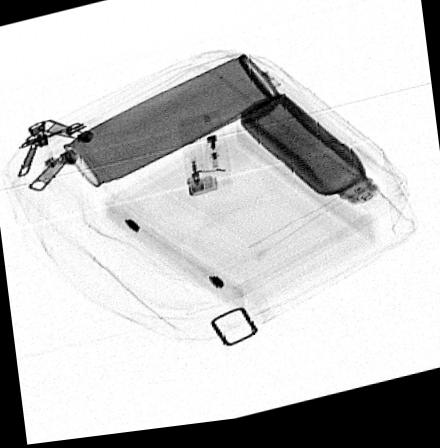Lighter: (175, 115, 232, 200)
